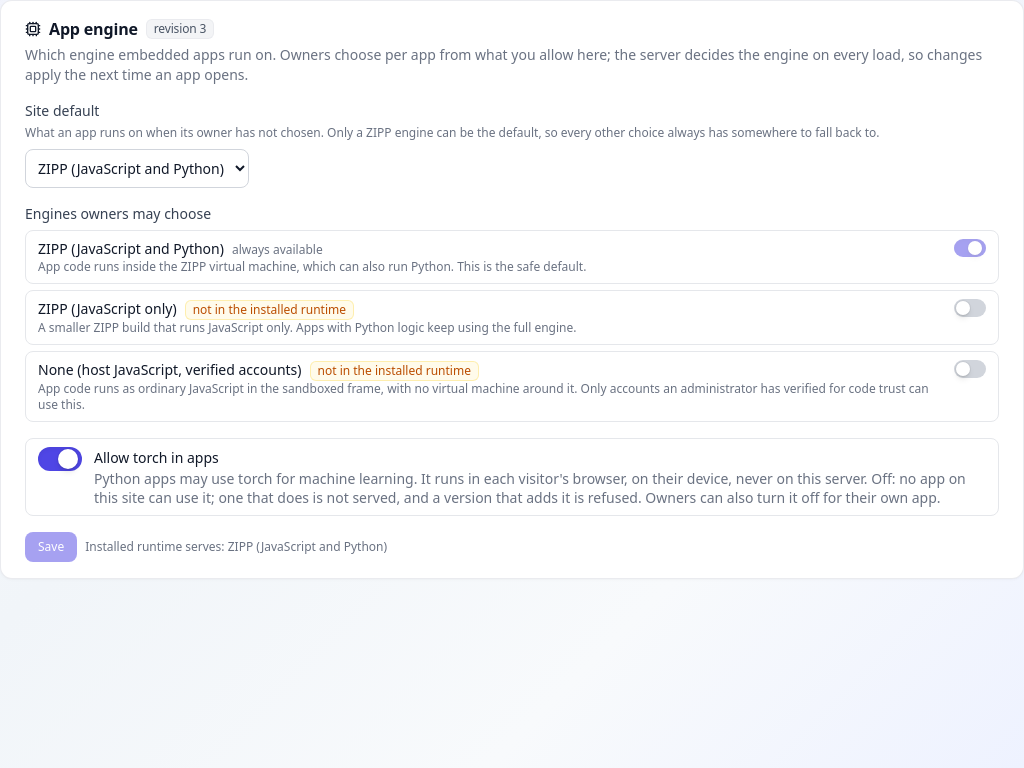
saves the edited allow-list and adopts the revision the server returns
Click the switch named "Allow None (host JavaScript, verified accounts)".
click(970, 369)  # box x1=954 y1=360 x2=986 y2=378
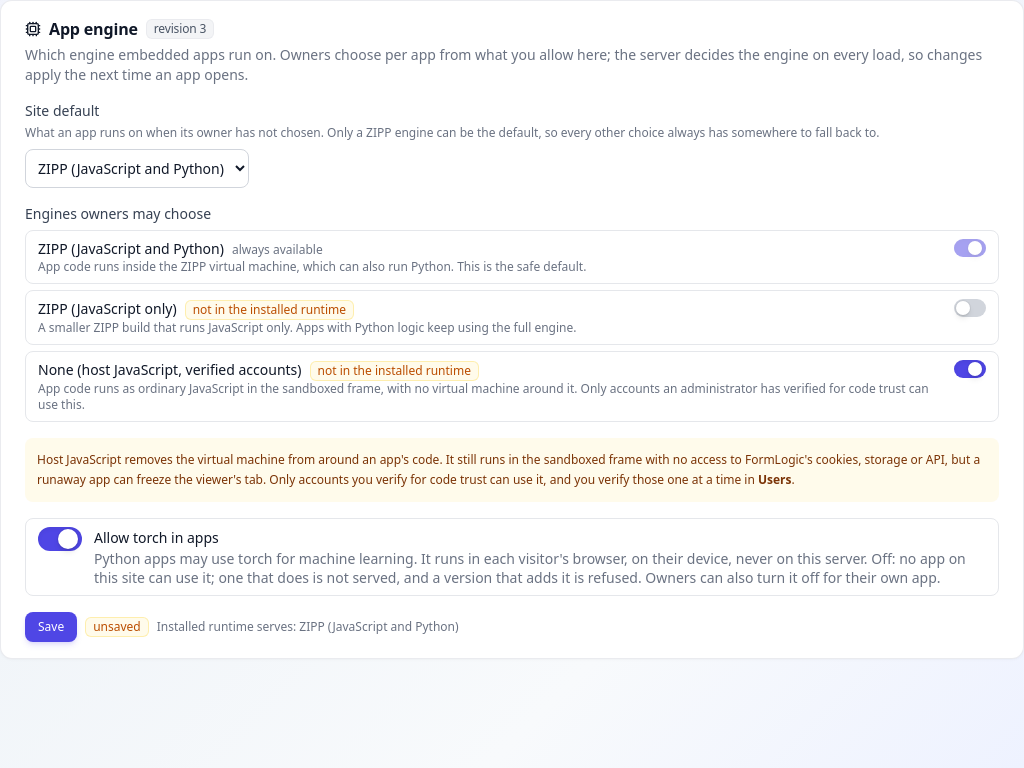
Now the text "unsaved" is shown, box x1=85 y1=617 x2=149 y2=637
Click the button "Save".
click(51, 627)  # box x1=25 y1=612 x2=77 y2=642
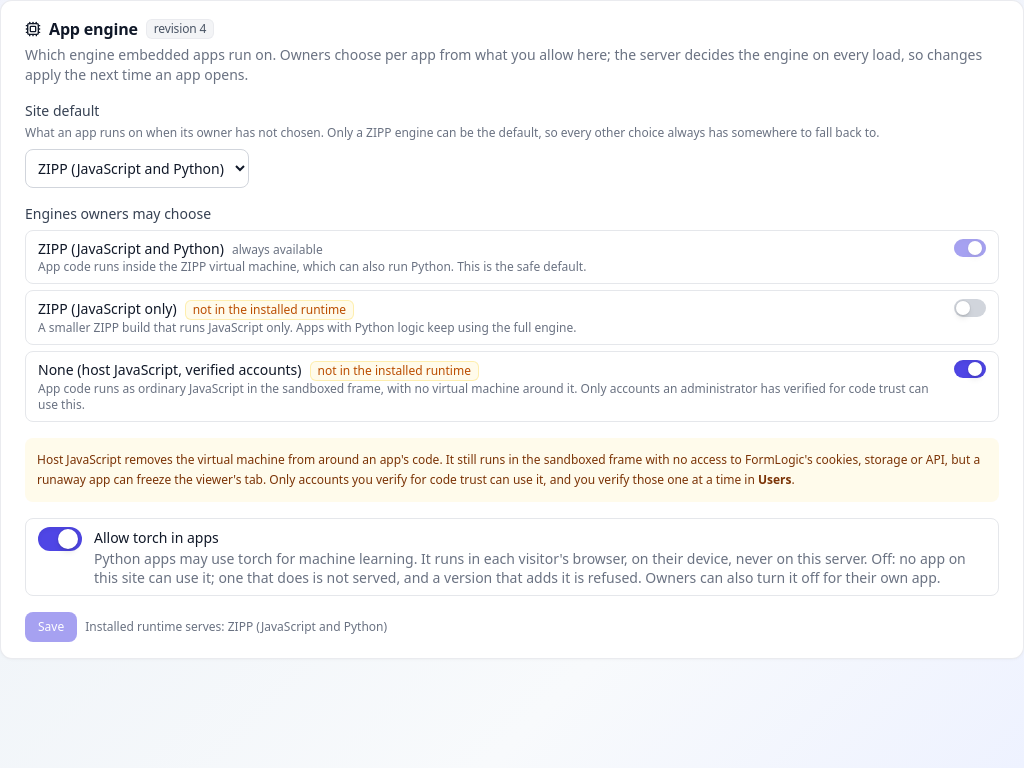
Now the text "revision 4" is shown, box x1=146 y1=19 x2=214 y2=39
Now the text "unsaved" is gone
